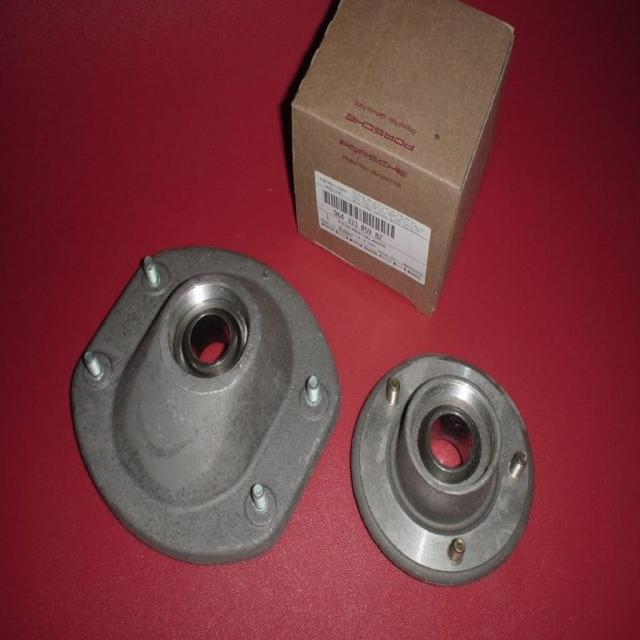Box: (275, 0, 512, 326)
